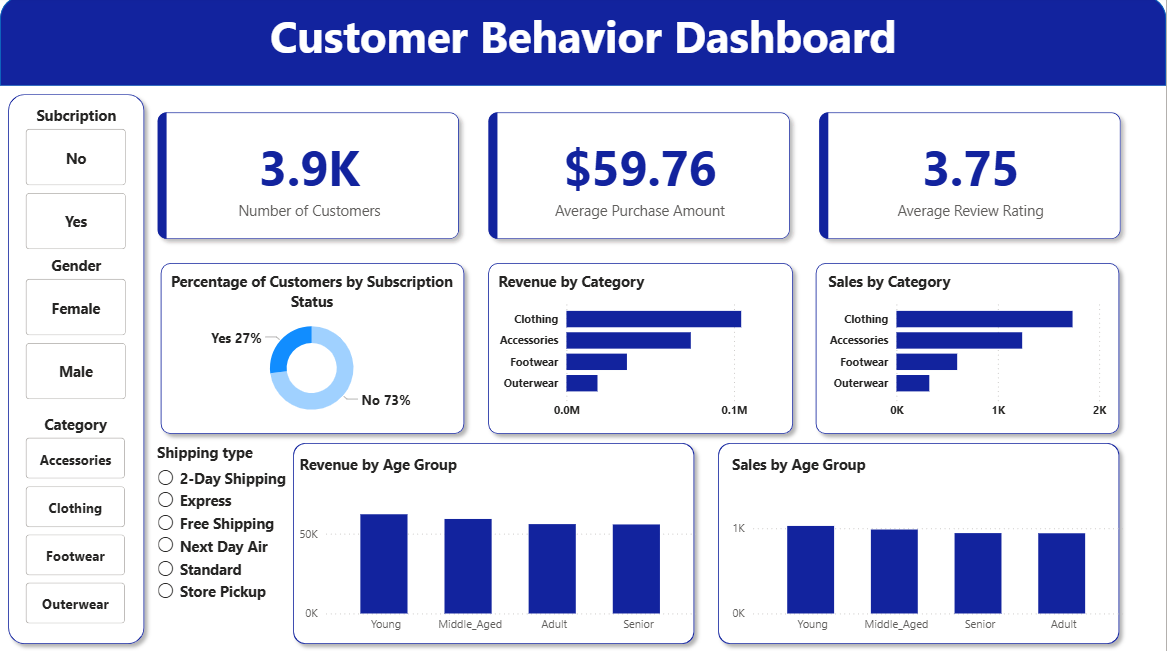

Layout of this report page (visuals, bound fields, positions):
{"tool":"powerbi","page":{"name":"Page 1","canvas":[1280,720],"ordinal":0},"visuals":[{"type":"listSlicer","title":"Shipping type","fields":{"Values":["public customer.shipping_type"]},"box":[167.4,489.9,156.4,230.5],"z":1500},{"type":"shape","box":[312.9,481.6,458.3,238.8],"z":2000},{"type":"shape","box":[779.4,481.6,458.3,238.8],"z":3000},{"type":"cardVisual","fields":{"Data":["public customer.Number of Customers","public customer.Average Purchase Amount","public customer.Average Review Rating"]},"box":[144.1,98.8,1117,197.6],"z":4000},{"type":"shape","box":[0,0,1280.3,98.8],"z":5000},{"type":"textbox","box":[0,5.5,1280.3,130.4],"z":6000},{"type":"shape","box":[167.4,284,351.3,205.8],"z":7000},{"type":"donutChart","title":"Percentage of Customers by Subscription Status","fields":{"Category":["public customer.subscription_status"],"Y":["CountNonNull(public customer.customer_id)"]},"box":[179.8,301.9,325.2,170.2],"z":8000},{"type":"shape","box":[526.9,284,352.7,205.8],"z":9000},{"type":"shape","box":[886.5,284,351.3,205.8],"z":10000},{"type":"clusteredBarChart","title":"Revenue by Category","fields":{"Category":["public customer.category"],"Y":["Sum(public customer.purchase_amount)"]},"box":[542,301.9,376,171.5],"z":11000},{"type":"clusteredBarChart","title":"Sales by Category","fields":{"Category":["public customer.category"],"Y":["CountNonNull(public customer.customer_id)"]},"box":[904.3,301.9,315.6,171.5],"z":12000},{"type":"shape","box":[0,98.8,167.4,621.6],"z":13000},{"type":"advancedSlicerVisual","title":"Gender","fields":{"Values":["public customer.gender"]},"box":[23.3,284,120.8,164.7],"z":14000},{"type":"advancedSlicerVisual","title":"Subcription","fields":{"Values":["public customer.subscription_status"]},"box":[23.3,119.4,120.8,164.7],"z":15000},{"type":"advancedSlicerVisual","title":"Category","fields":{"Values":["public customer.category"]},"box":[23.3,458.3,119.4,238.8],"z":16000},{"type":"clusteredColumnChart","title":"Revenue by Age Group","fields":{"Category":["public customer.age_group"],"Y":["Sum(public customer.purchase_amount)"]},"box":[323.8,502.2,447.3,205.8],"z":17000},{"type":"clusteredColumnChart","title":"Sales by Age Group","fields":{"Category":["public customer.age_group"],"Y":["CountNonNull(public customer.customer_id)"]},"box":[798.6,502.2,439.1,205.8],"z":18000}]}

Visuals, with their boxes in screenshot pixels (x1, y1, x2, y2), scaled from the page's 1280x720 canvas onto the 1167x651 screenshot:
"Shipping type" listSlicer: <region>153, 443, 295, 650</region>
shape: <region>285, 435, 703, 650</region>
shape: <region>711, 435, 1128, 650</region>
cardVisual - public customer.Number of Customers x public customer.Average Purchase Amount: <region>131, 89, 1150, 268</region>
shape: <region>0, 0, 1166, 89</region>
textbox: <region>0, 5, 1166, 123</region>
shape: <region>153, 257, 473, 443</region>
"Percentage of Customers by Subscription Status" donutChart: <region>164, 273, 460, 427</region>
shape: <region>480, 257, 802, 443</region>
shape: <region>808, 257, 1129, 443</region>
"Revenue by Category" clusteredBarChart: <region>494, 273, 837, 428</region>
"Sales by Category" clusteredBarChart: <region>824, 273, 1112, 428</region>
shape: <region>0, 89, 153, 650</region>
"Gender" advancedSlicerVisual: <region>21, 257, 131, 406</region>
"Subcription" advancedSlicerVisual: <region>21, 108, 131, 257</region>
"Category" advancedSlicerVisual: <region>21, 414, 130, 630</region>
"Revenue by Age Group" clusteredColumnChart: <region>295, 454, 703, 640</region>
"Sales by Age Group" clusteredColumnChart: <region>728, 454, 1128, 640</region>
